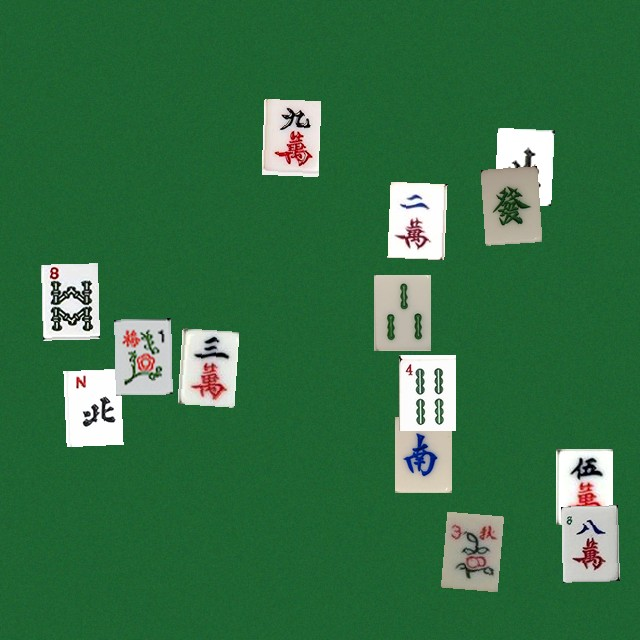tile: (63, 368, 120, 444), (41, 263, 98, 339), (494, 127, 551, 203), (387, 181, 444, 257), (177, 328, 234, 404), (394, 416, 451, 492), (114, 318, 171, 394), (555, 448, 612, 524), (440, 511, 497, 587), (480, 166, 537, 242), (561, 505, 618, 581), (261, 98, 318, 174), (398, 354, 455, 430), (373, 274, 430, 350)
